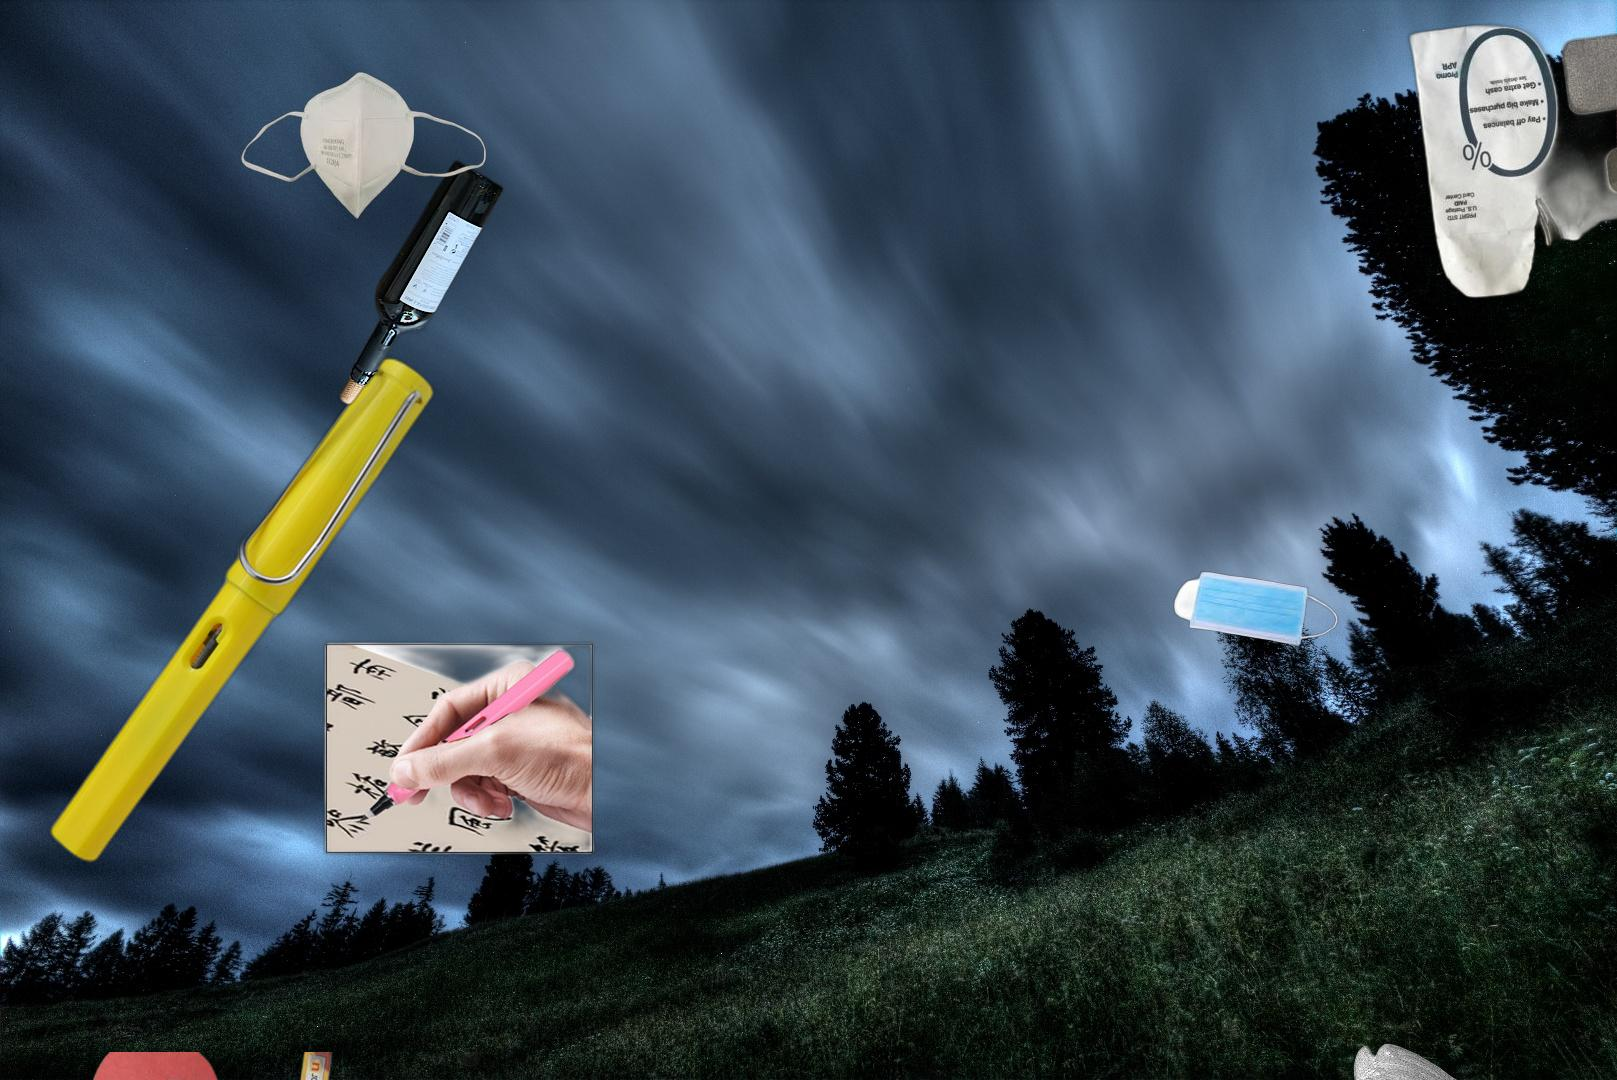glass: (335, 154, 508, 411)
paper: (1404, 5, 1617, 300), (48, 1052, 560, 1080)
penholder: (42, 351, 601, 1043), (781, 1049, 1617, 1080)
shoes: (1249, 1041, 1475, 1080)
trash: (239, 69, 489, 222), (1171, 569, 1341, 648)
